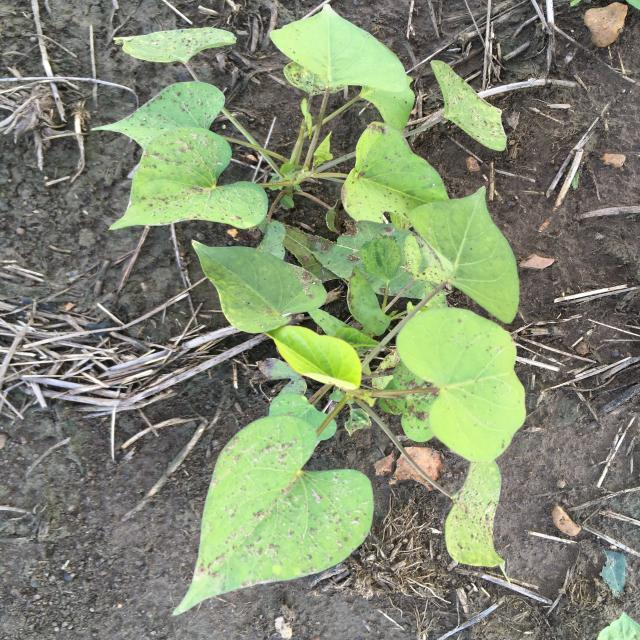MorningGlory: (92, 4, 526, 616)
